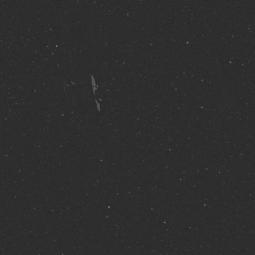proba_3_ocs: (64, 72, 146, 115)
